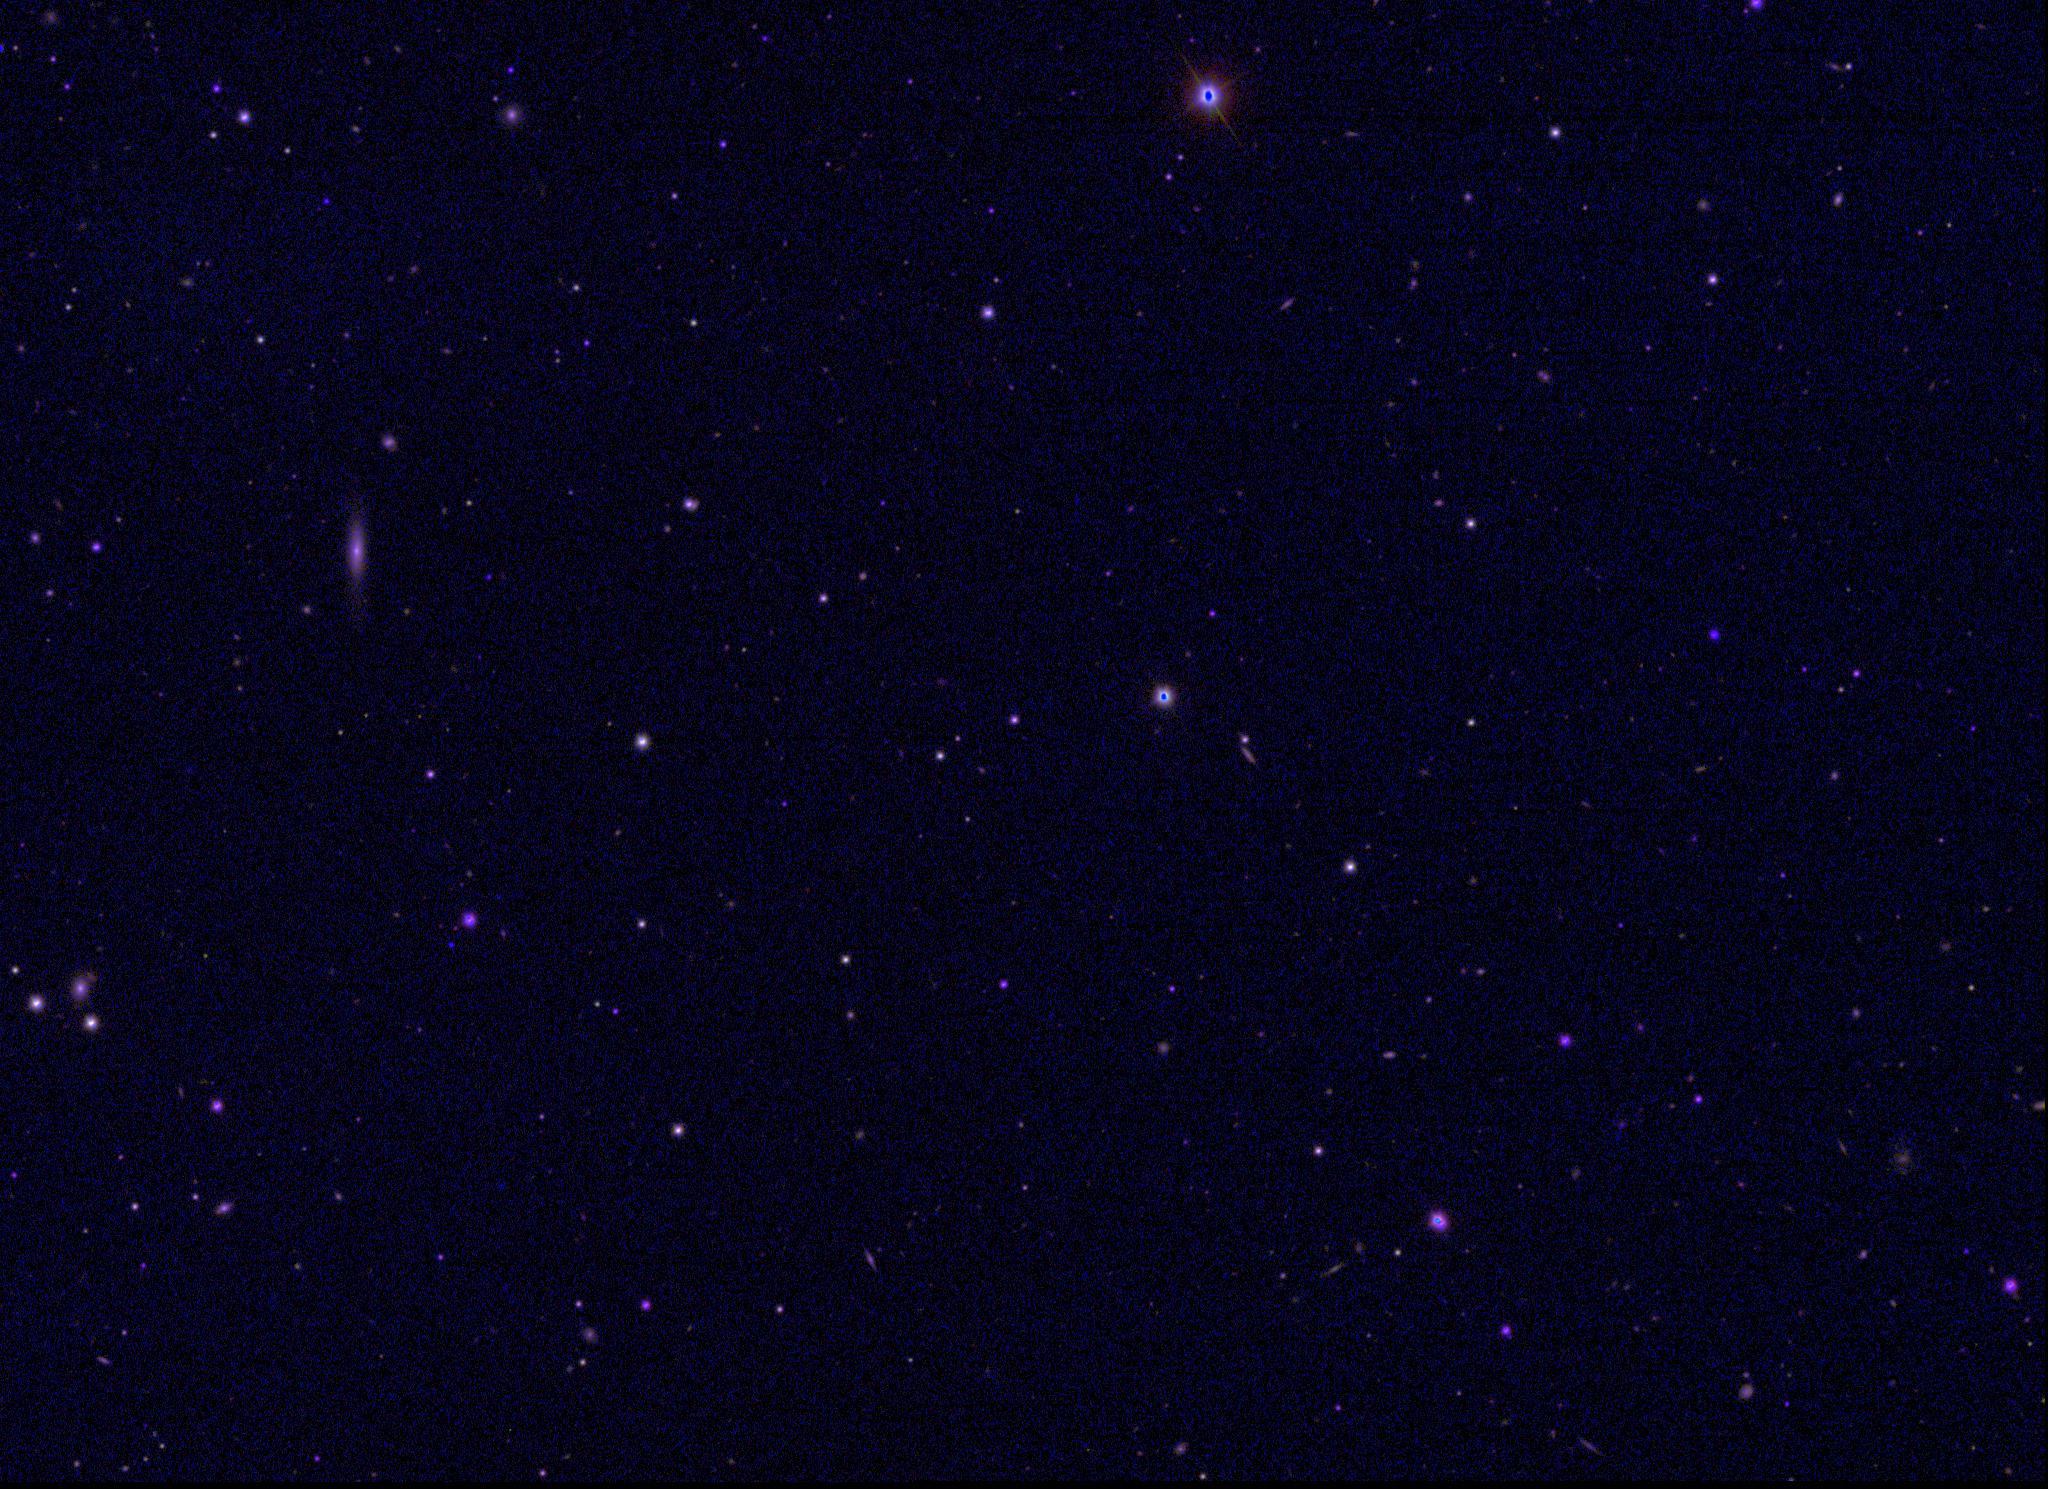L: (445, 937, 460, 951)
